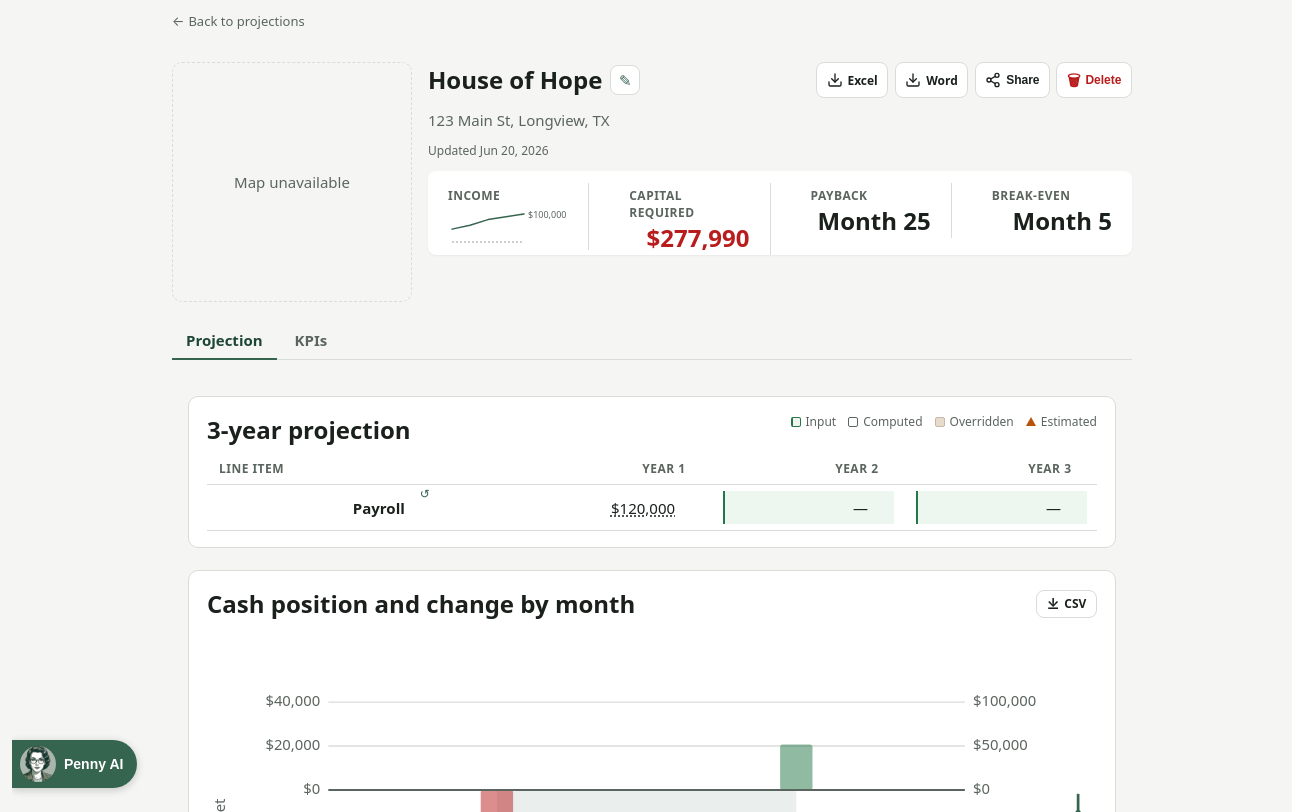
it: ProjectionDetail — Override Inspector → Penny (#42) › D10: removes the standalone 'Pinned overrides' audit block from the KPIs tab
Expected: the element with test id "decision-banner" is shown, 428,171 -> 1132,255
Click the tab "KPIs".
click(311, 341)  # box 281,322 -> 341,360
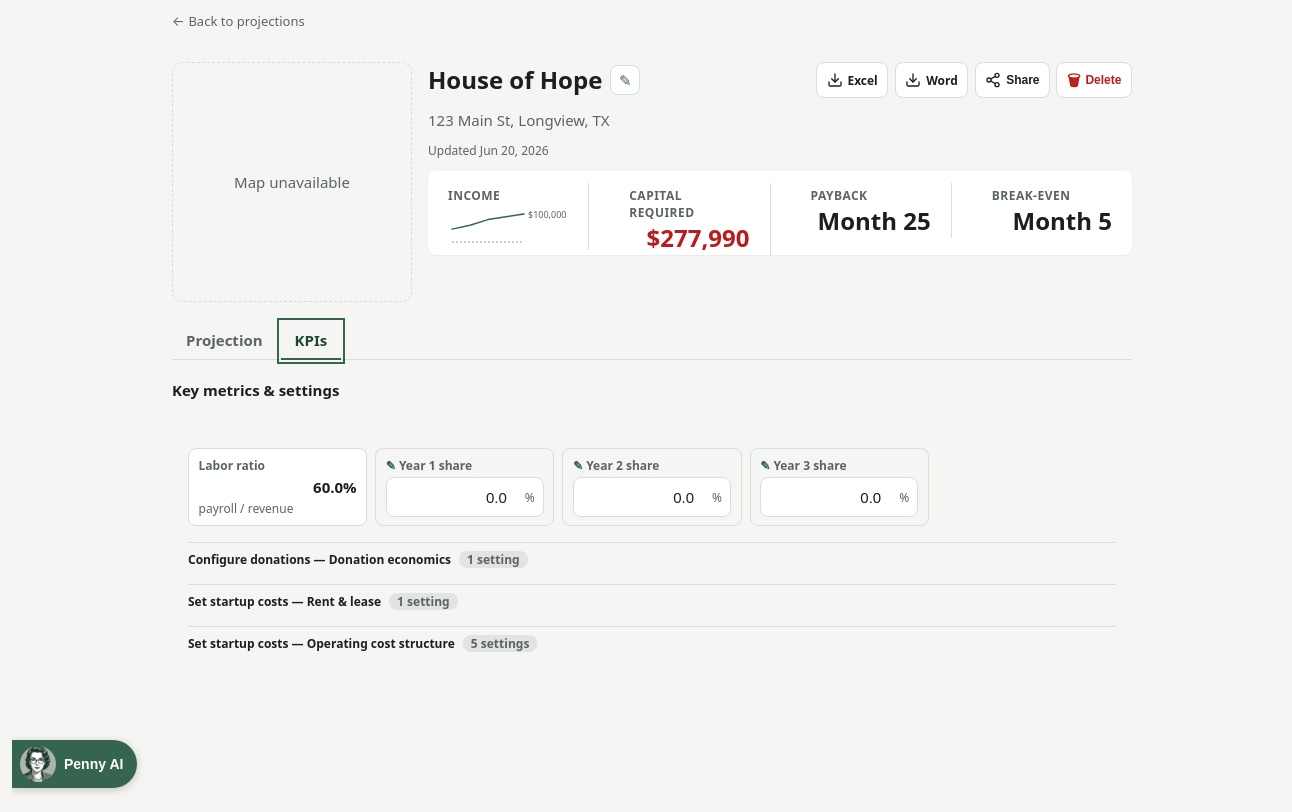
Now the element with test id "settings-tab" that starts with "Labor ratio" is shown, box 172,424 -> 1132,668
